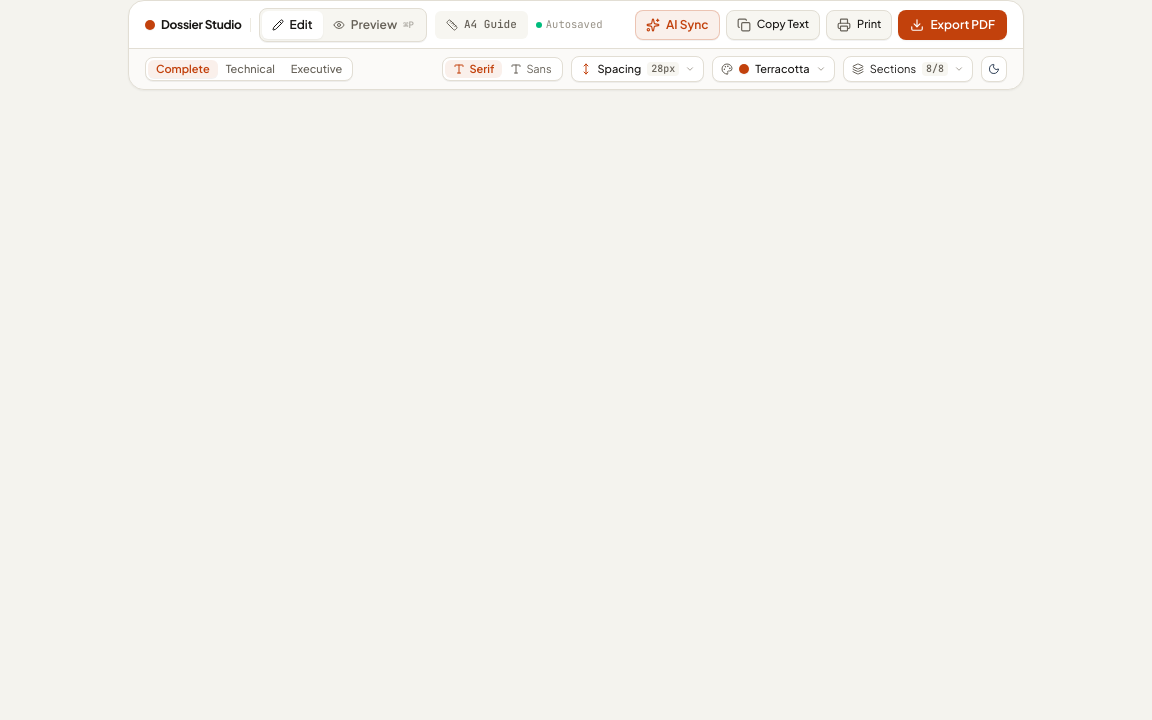
Scenario: Toolbar dropdowns › opens and closes the Theme Color Palette dropdown
This screenshot has width=1152, height=720.
Expected: the dialog "Theme Color Palette" is not shown
What coordinates should you click on to do the following:
click the button titled "Theme color palette"
I would click on:
 (773, 69)
Its box is [712,56,835,82].
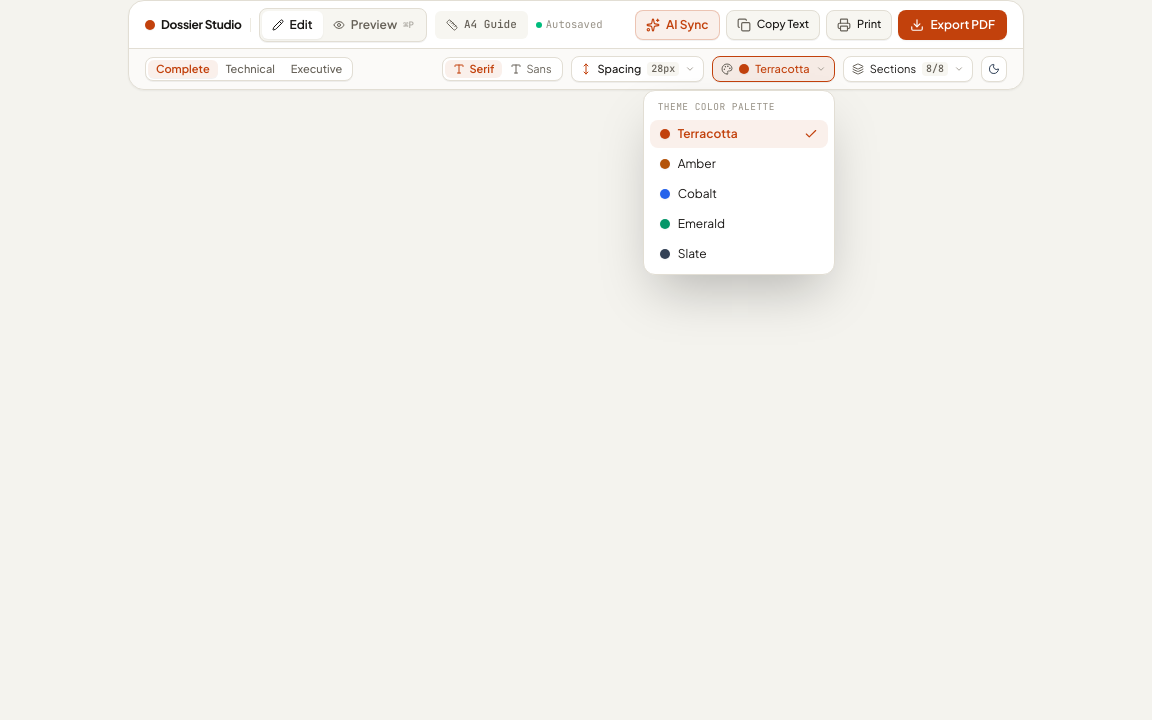
Expected: the dialog "Theme Color Palette" is shown, [643,90,835,275]
Expected: the text "Terracotta" below "Theme Color Palette" is shown, [678,126,738,141]
Expected: the text "Cobalt" is shown, [678,186,717,202]
Selecting a palette option calls onChangeThemePalette and closes dropdown
What coordinates should you click on to do the following:
click the button "Cobalt"
I would click on:
 (739, 194)
Its box is [650,180,828,208].
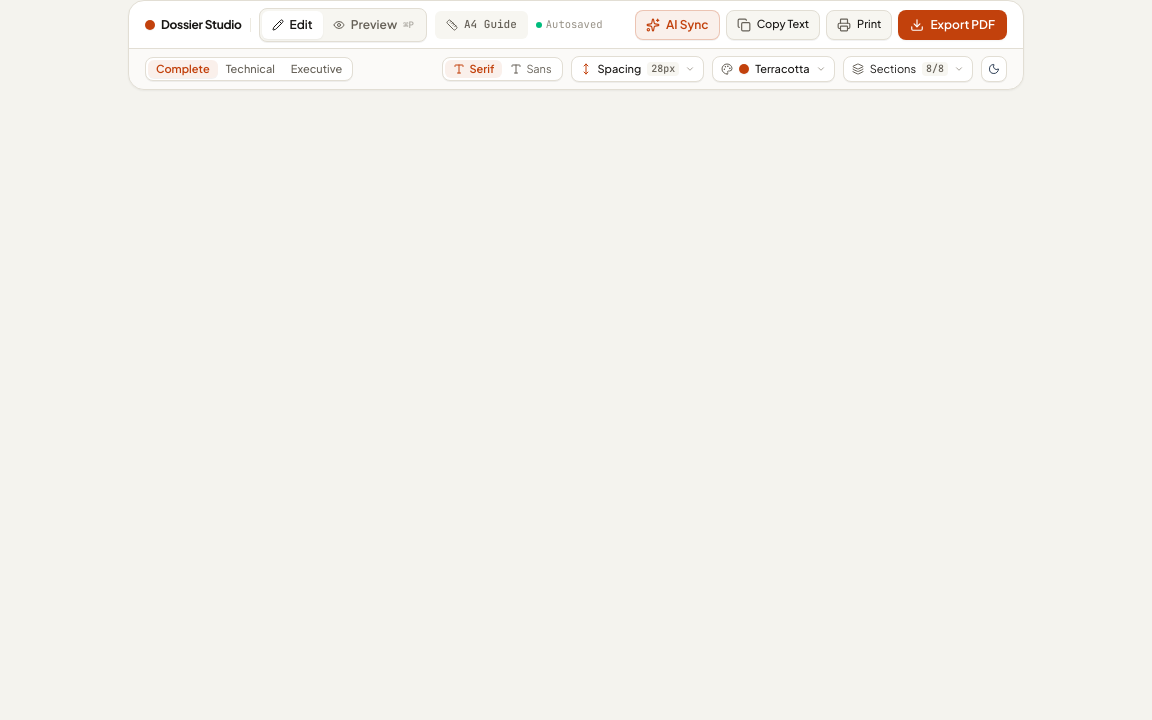
Expected: the text "Theme Color Palette" is gone
